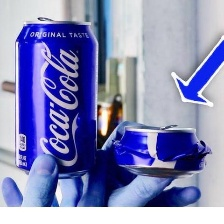can: (9, 12, 99, 179), (108, 121, 215, 181)
